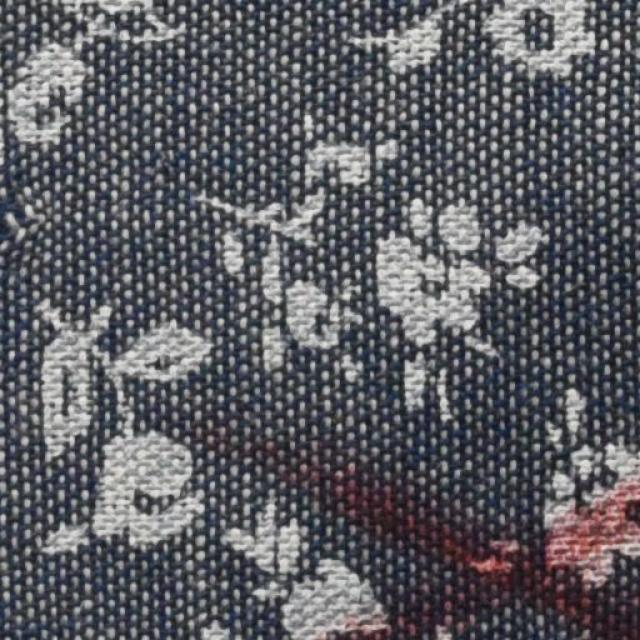Stain: (279, 437, 639, 639)
